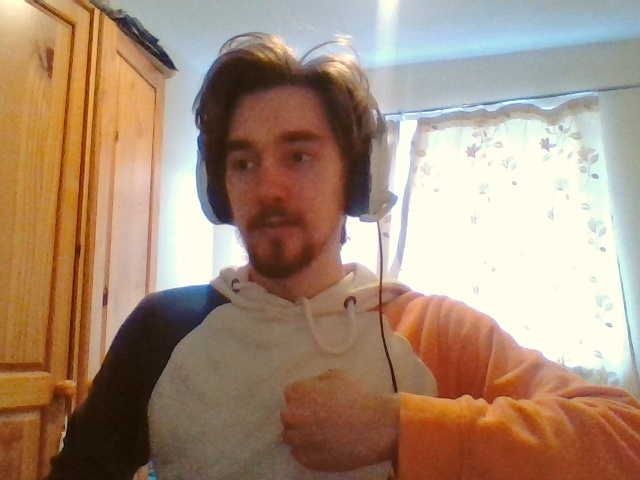morning: (282, 368, 368, 471)
